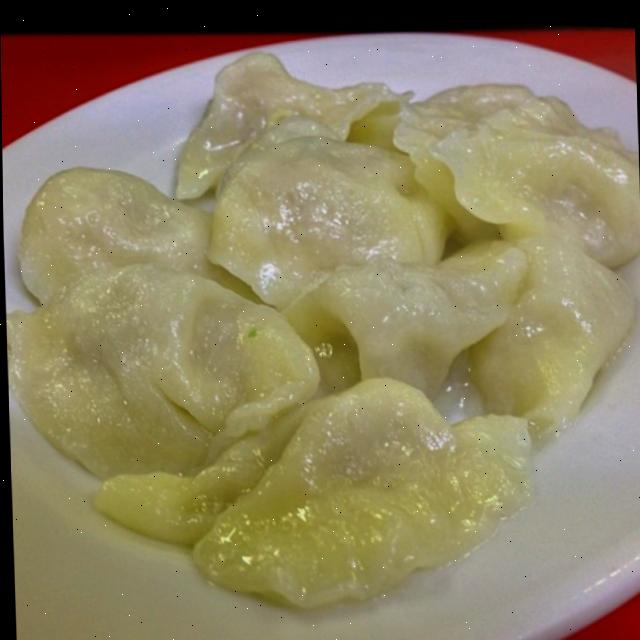带馅早点: (13, 35, 640, 613)
